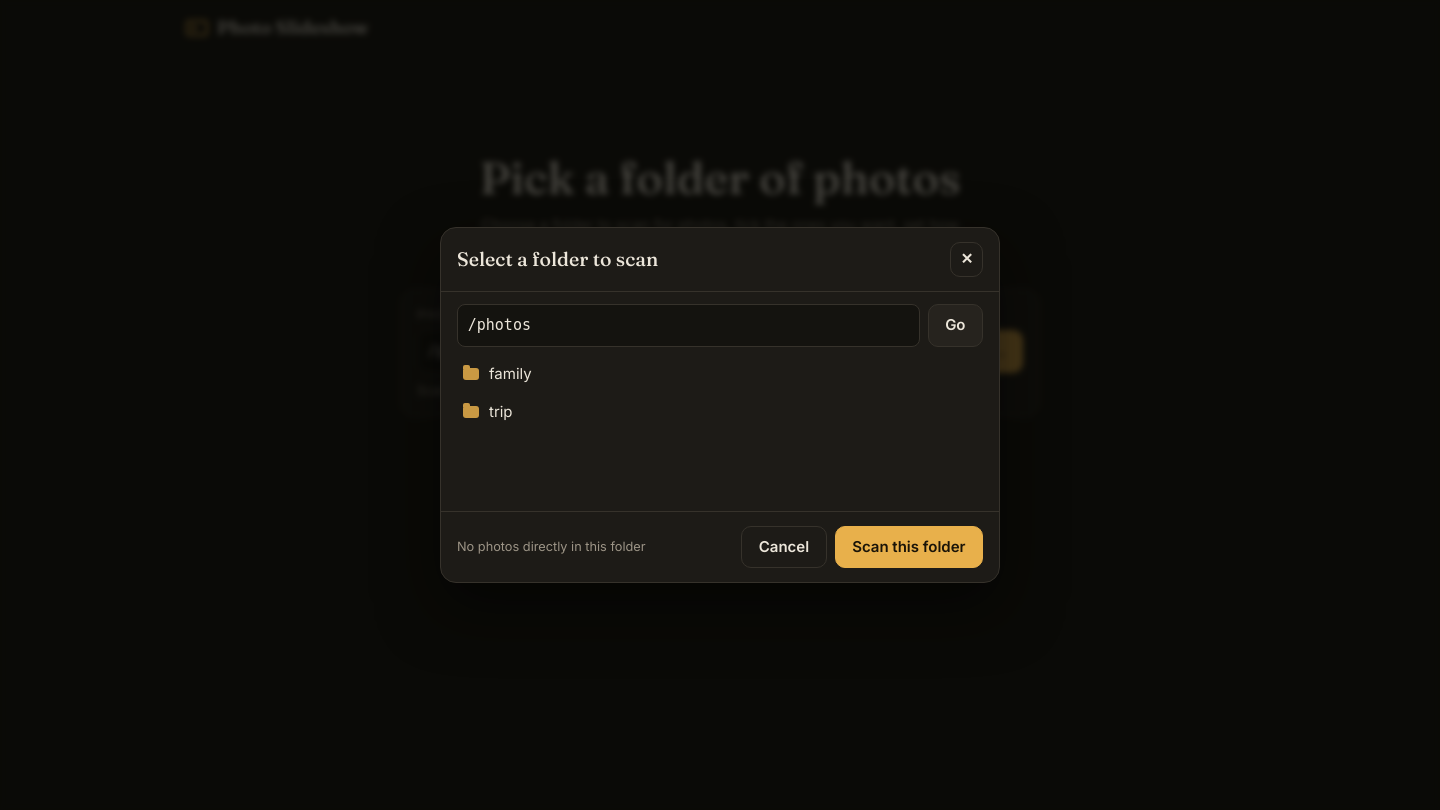
App › can browse to a folder in the dialog and scan it
Click the button "family".
click(510, 373)  # box [453,354,987,393]
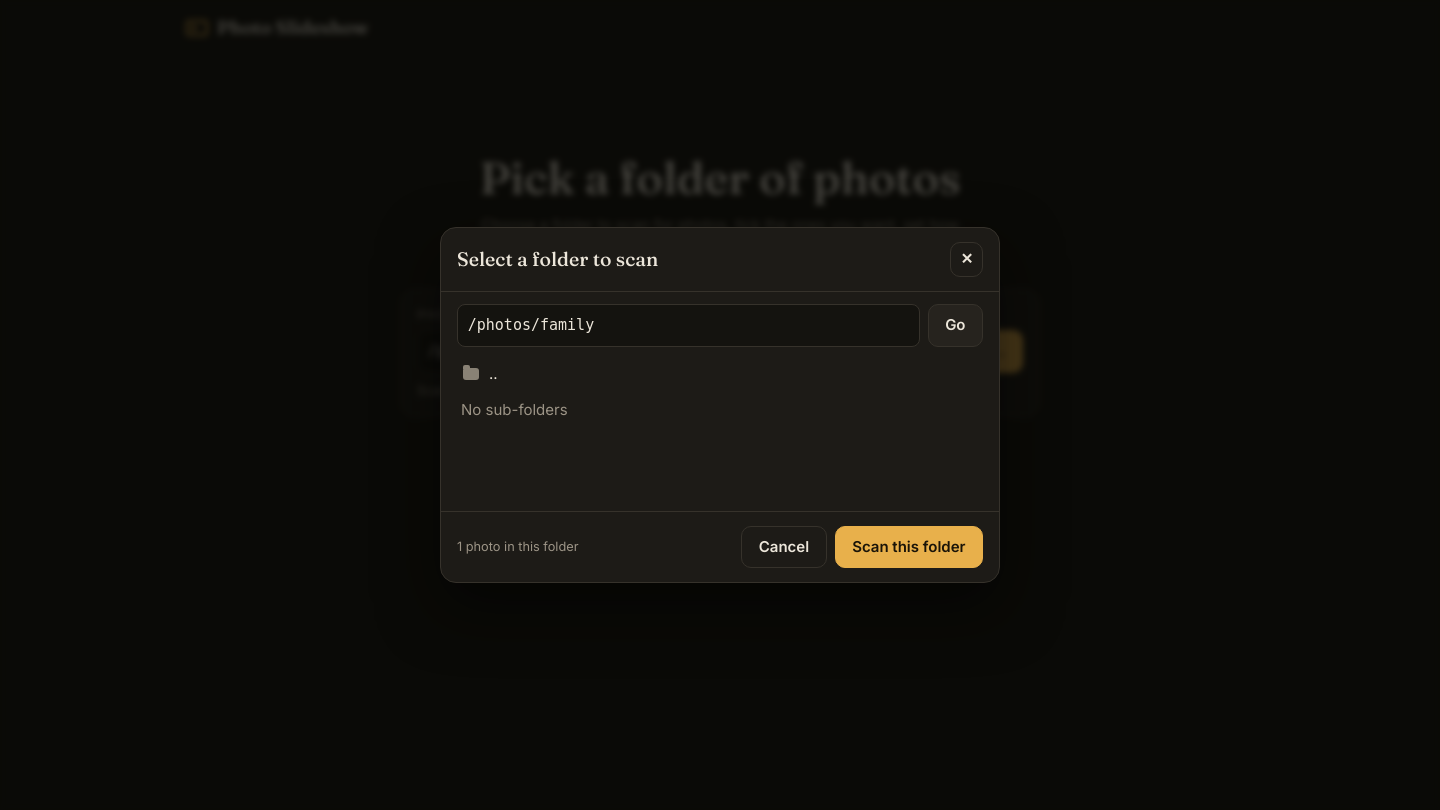
expect the text "1 photo in this folder" is shown: met, box [457,537,578,556]
Click the button "Scan this folder".
click(909, 547)  # box [835,526,983,568]
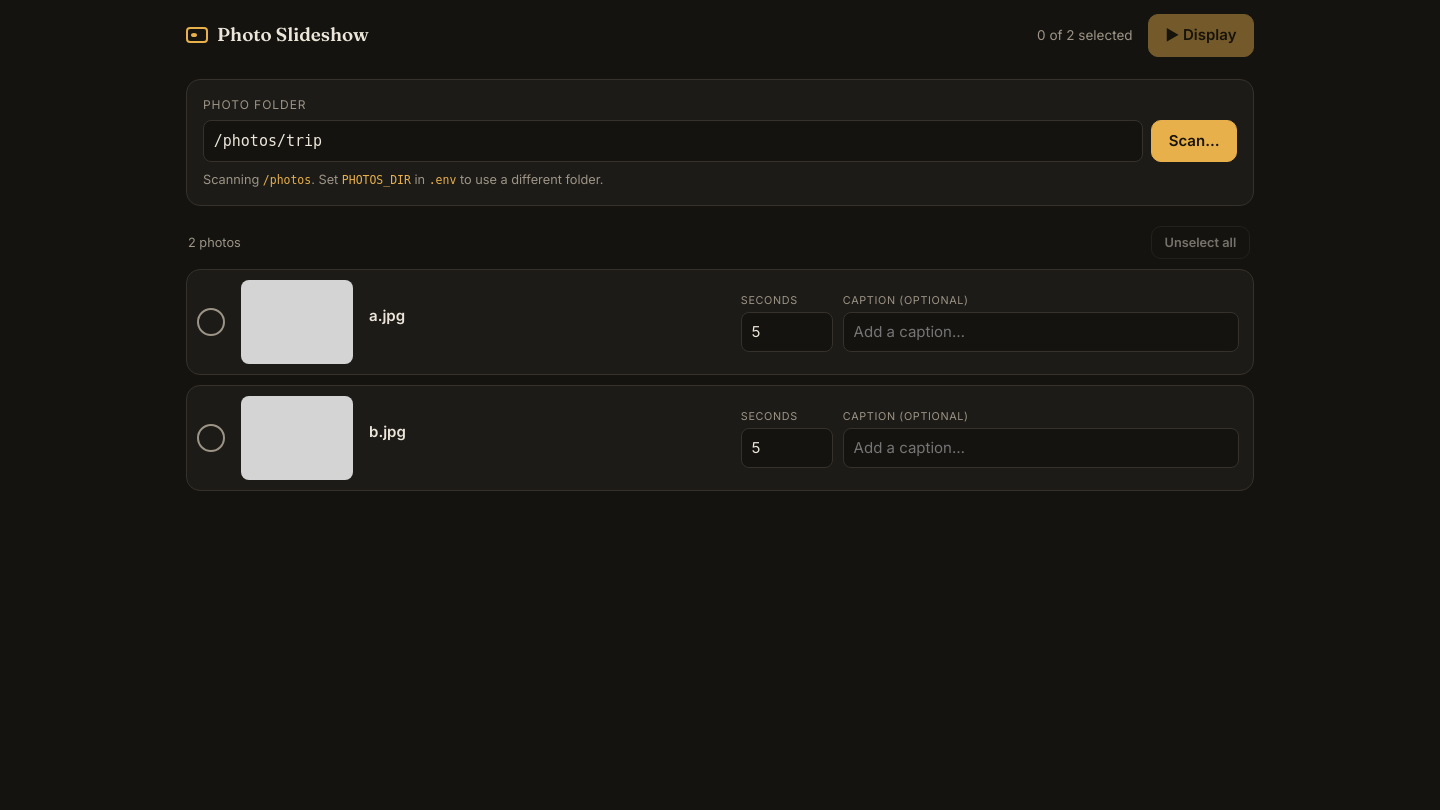
expect the dialog is gone: met
